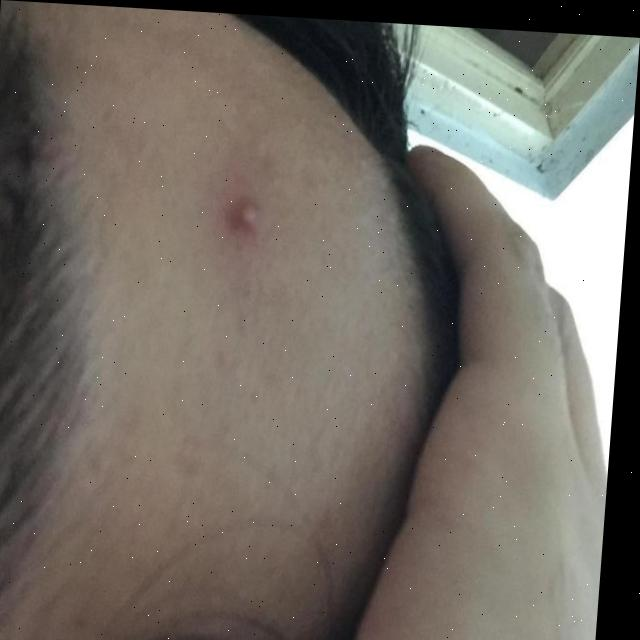Acne: (204, 189, 267, 230)
